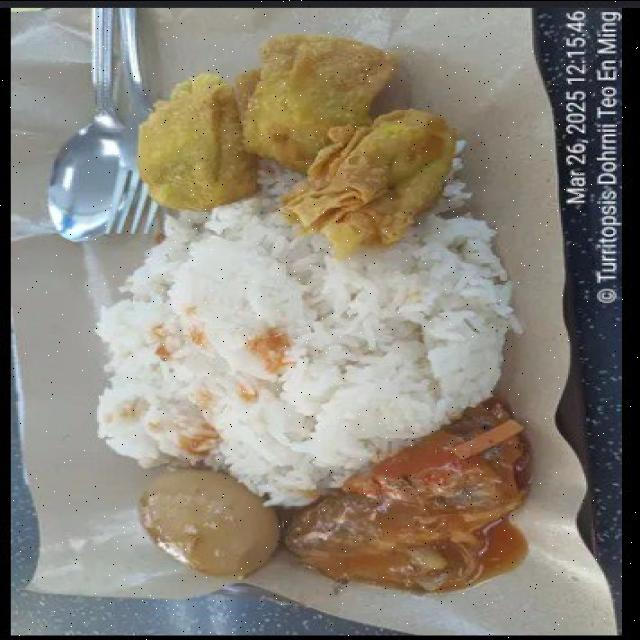Egg: (138, 469, 279, 578)
Fish: (279, 399, 527, 593)
Rice: (97, 193, 516, 503)
